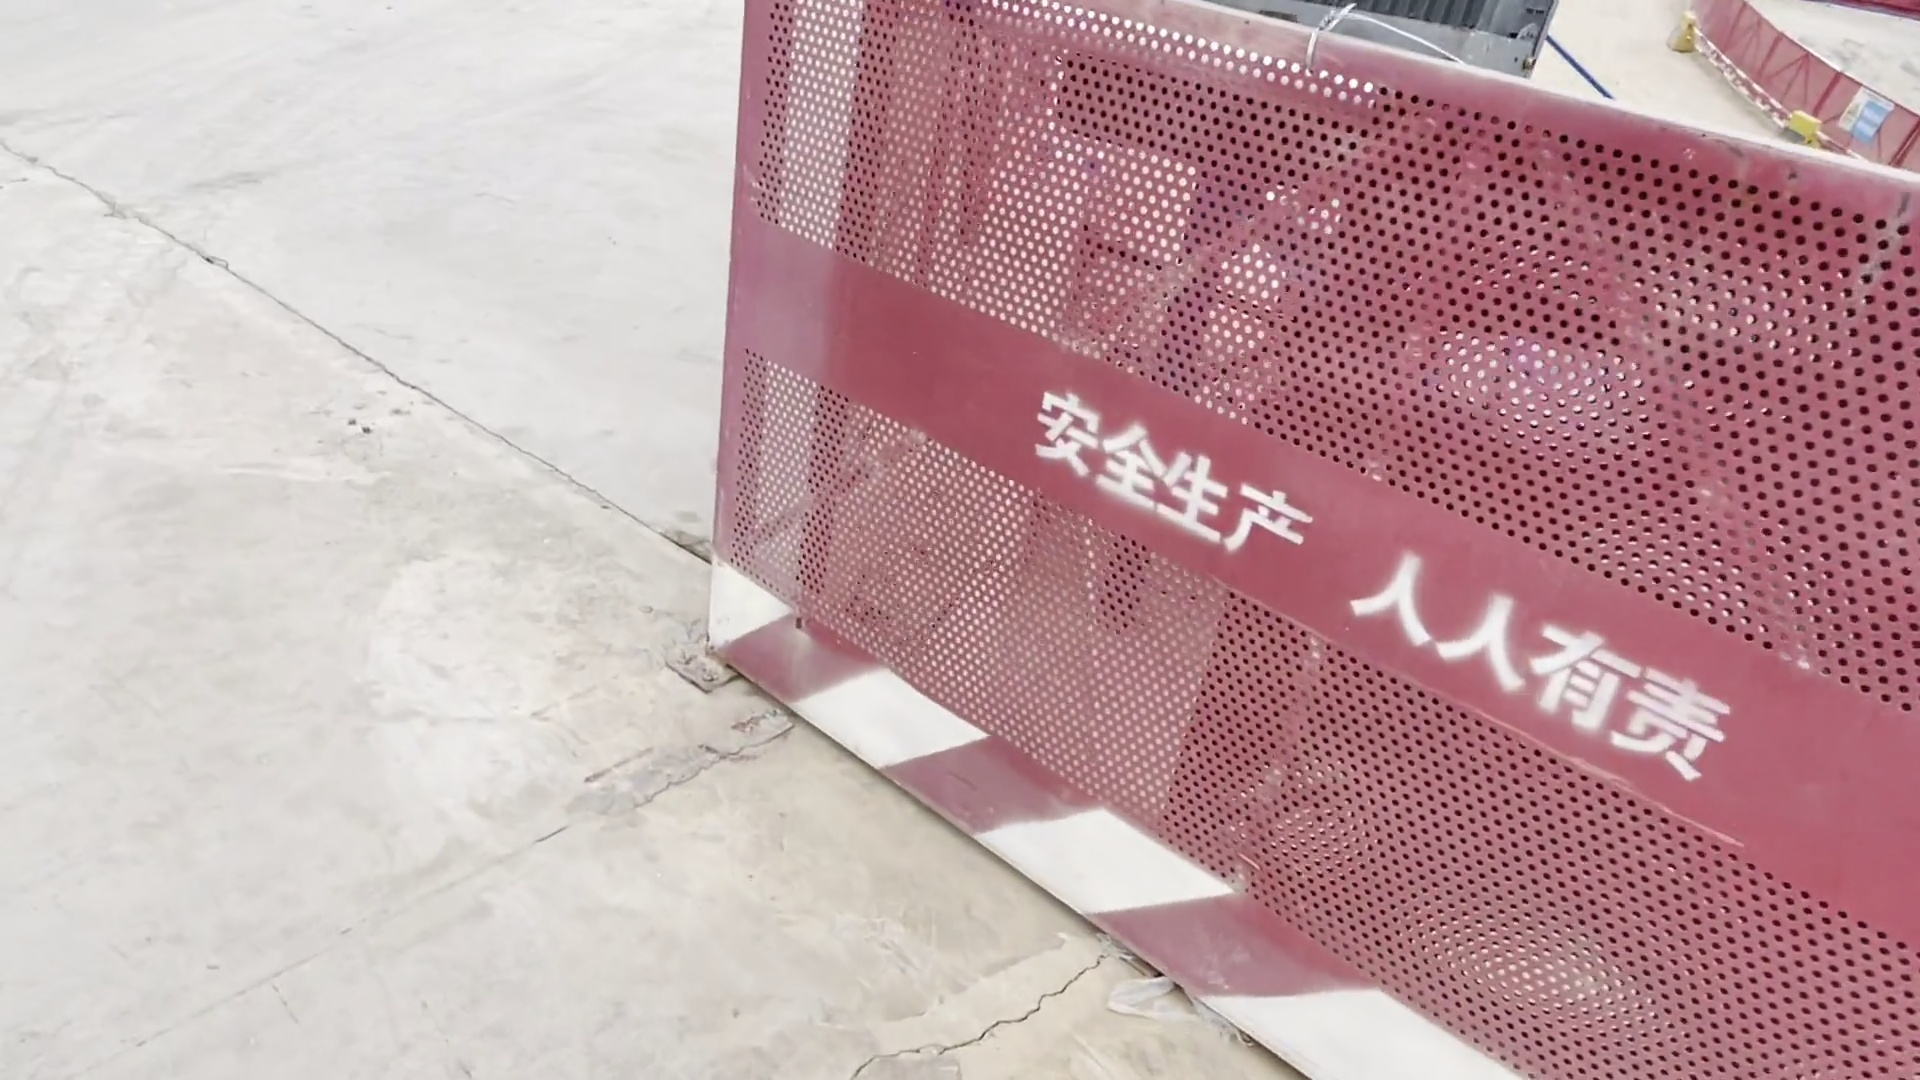fence: (731, 20, 1902, 1080)
